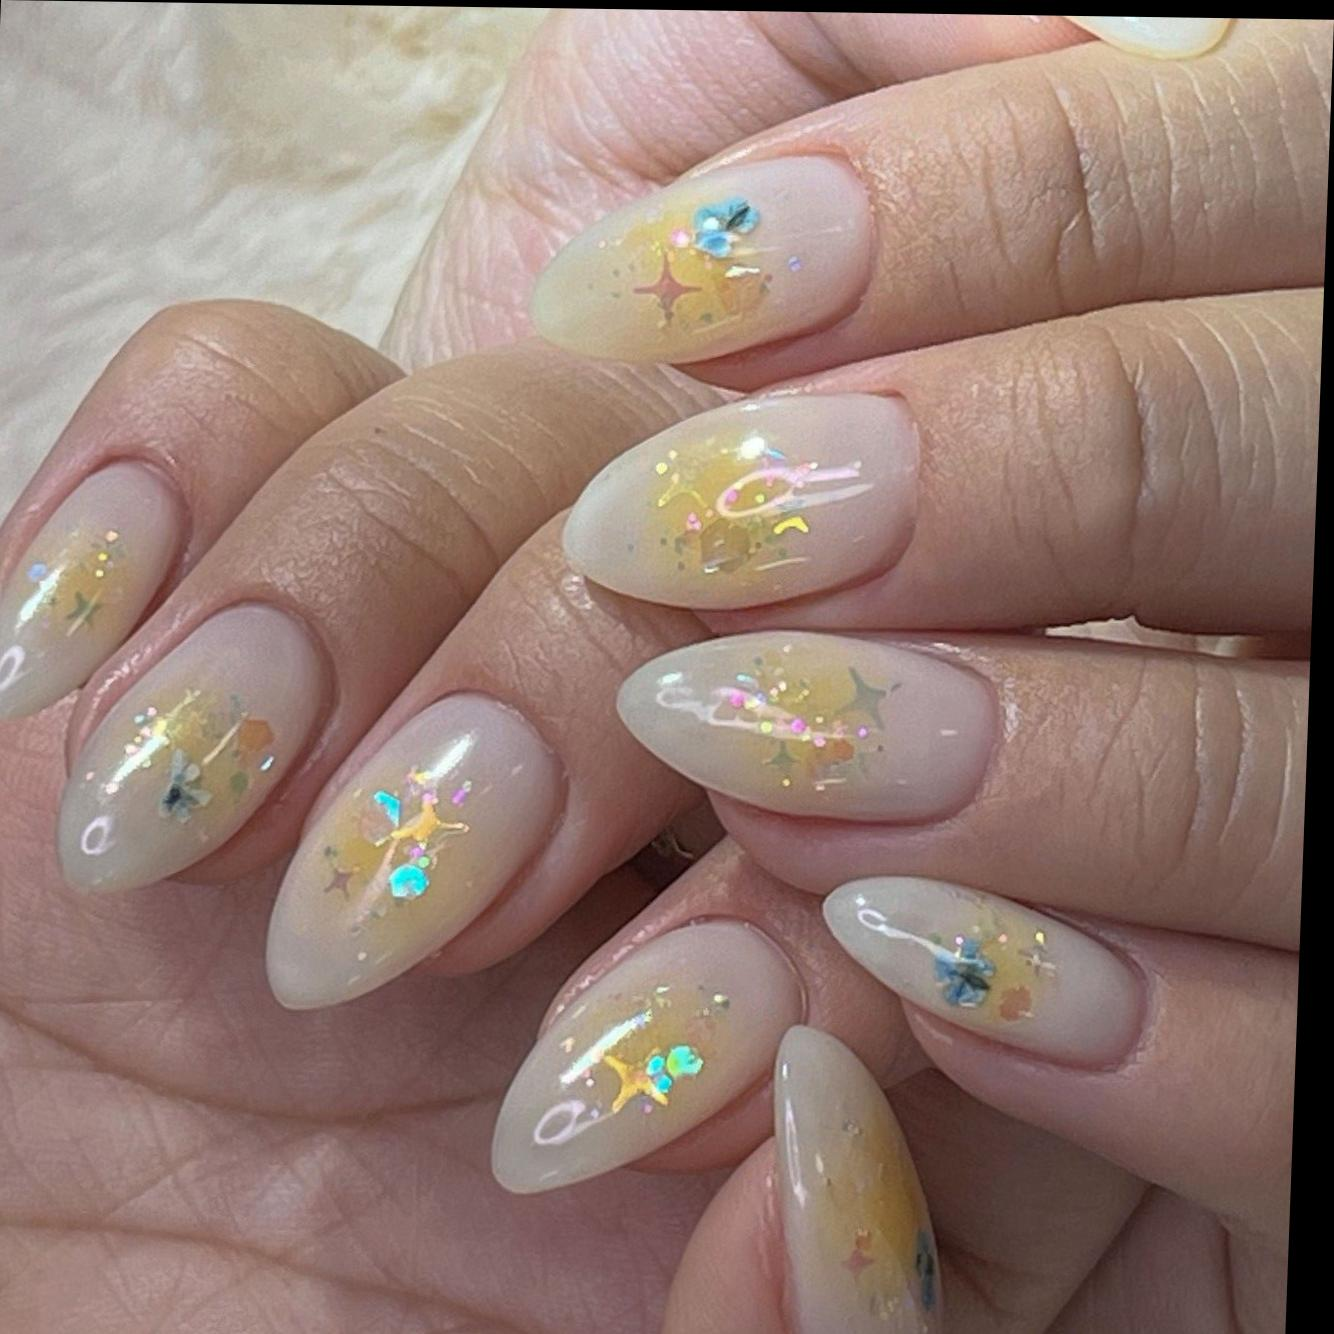nail: (259, 689, 566, 1016), (485, 911, 809, 1201), (50, 597, 337, 899), (555, 386, 922, 614), (607, 625, 1001, 831), (524, 145, 878, 370), (812, 873, 1150, 1075), (759, 1025, 955, 1334), (0, 456, 191, 726), (985, 15, 1234, 65)
